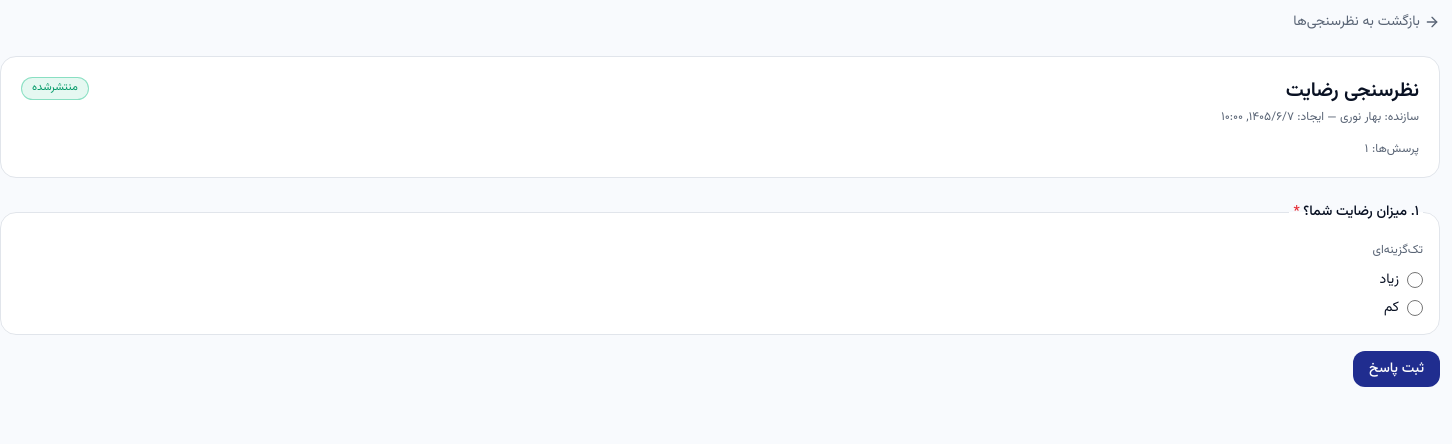
Test: CoreSurveyDetailView › participation and the one-response rule › blocks submission of a required question left blank
Check: the form with test id "survey-response-form" is shown, box [0,202,1440,387]
What coordinates should you click on to do the following:
click the button with test id "survey-submit"
I would click on:
 (1396, 369)
Its box is [1353,351,1440,387].
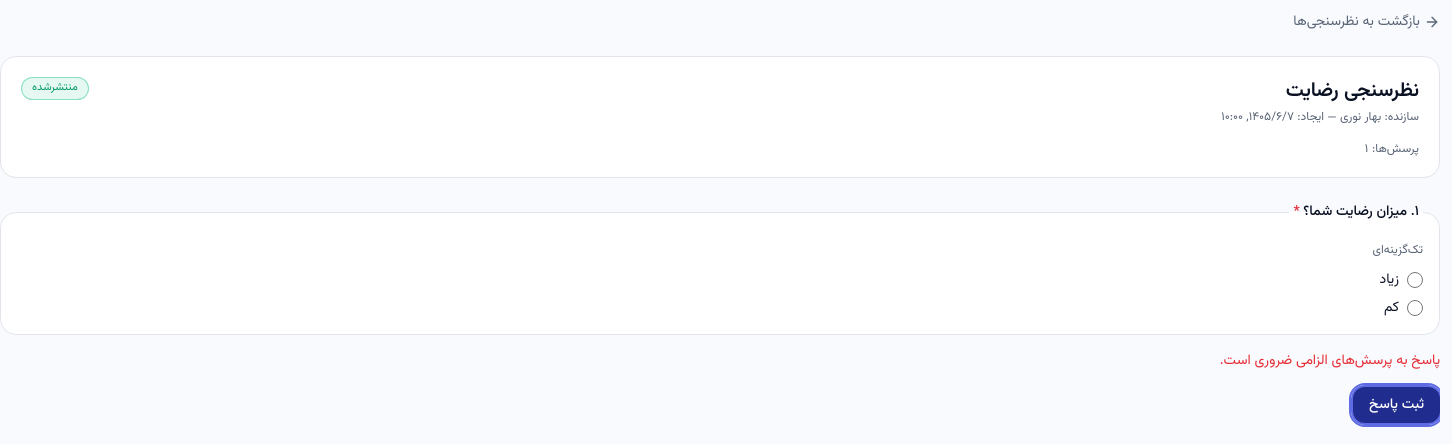
Check: the text "پاسخ به پرسش‌های الزامی ضروری است." is shown, box [1220,350,1440,372]
